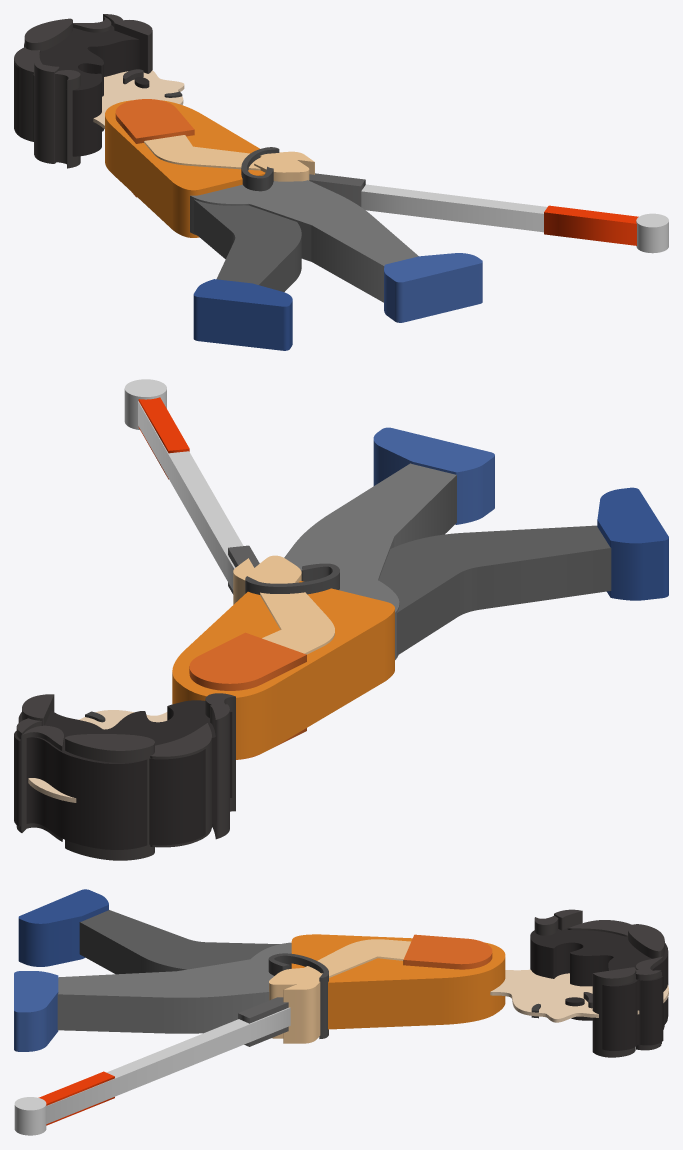
Rendered from emoji_u1f9d1_1f3fb_200d_1f9af_200d_27a1.glb.
3 renders of one model, top to bottom at view 1: azimuth 30°, elevation 25°; view 2: azimuth 150°, elevation 25°; view 3: azimuth 270°, elevation 25°, orthographic. The views are drawn at different scales.
Visible parts, largest first — view 1: emoji_u1f9d1_1f3fb_200d_1f9af_200d_27a1; view 2: emoji_u1f9d1_1f3fb_200d_1f9af_200d_27a1; view 3: emoji_u1f9d1_1f3fb_200d_1f9af_200d_27a1.
Boxes of the visible parts, x1,y1,x2,y2 form: emoji_u1f9d1_1f3fb_200d_1f9af_200d_27a1: (14,14,668,350); emoji_u1f9d1_1f3fb_200d_1f9af_200d_27a1: (14,379,668,860); emoji_u1f9d1_1f3fb_200d_1f9af_200d_27a1: (14,889,668,1135).
Bounding box in the file's own units: 0.0253 × 0.005 × 0.033.
